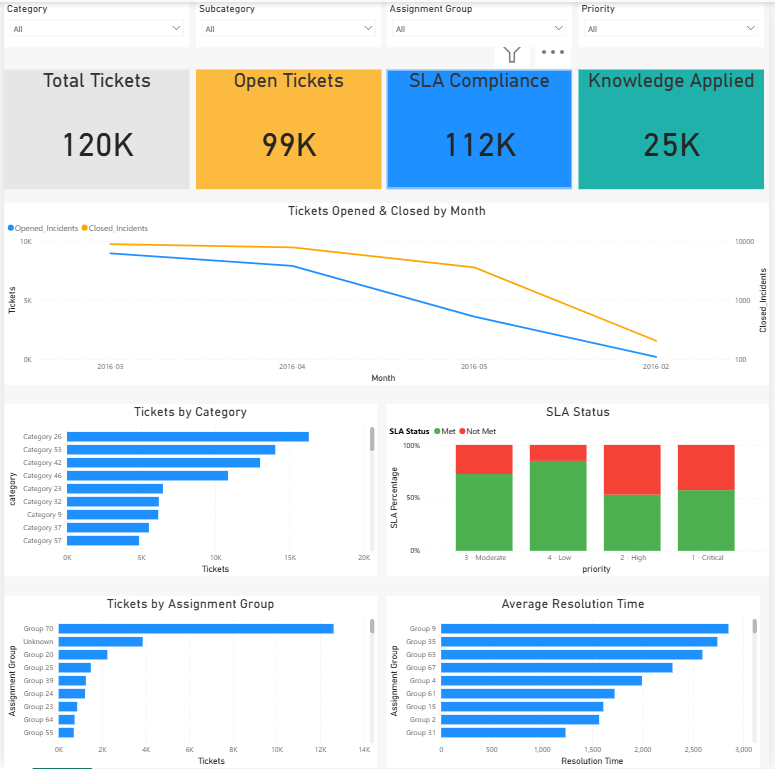

The page's visual inventory and layout, read from the dashboard file:
{"tool":"powerbi","page":{"name":"Page 1","canvas":[1280,1280],"ordinal":0},"visuals":[{"type":"card","title":"Total Tickets","fields":{"Values":["incidents_final.'Total Incidents'"]},"box":[0,112,310,200],"z":0},{"type":"card","title":"Open Tickets","fields":{"Values":["incidents_final.Active_Incidents"]},"box":[320,112,310,200],"z":1000},{"type":"card","title":"SLA Compliance","fields":{"Values":["incidents_final.SLA_Met"]},"box":[640,112,310,200],"z":2000},{"type":"card","title":"Knowledge Applied","fields":{"Values":["incidents_final.Knowledge_Used"]},"box":[960,112,310,200],"z":3000},{"type":"lineChart","title":"Tickets Opened & Closed by Month","fields":{"Category":["incidents_final.OpenedMonth"],"Y":["incidents_final.Opened_Incidents"],"Y2":["incidents_final.Closed_Incidents"]},"box":[0,336,1280,304],"z":4000},{"type":"clusteredBarChart","title":"Tickets by Category ","fields":{"Category":["incidents_final.category"],"Y":["CountNonNull(incidents_final.number)"]},"box":[0,672,624,288],"z":5000},{"type":"hundredPercentStackedColumnChart","title":"SLA Status","fields":{"Category":["incidents_final.priority"],"Y":["incidents_final.Tickets_by_Priority"],"Series":["incidents_final.SLA_Status"]},"box":[640,672,640,288],"z":6000},{"type":"clusteredBarChart","title":"Tickets by Assignment Group","fields":{"Category":["incidents_final.assignment_group"],"Y":["Count(incidents_final.number)"]},"box":[0,992,624,288],"z":7000},{"type":"clusteredBarChart","title":"Average Resolution Time","fields":{"Category":["incidents_final.assignment_group"],"Y":["incidents_final.AverageResolutionTime"]},"box":[640,992,624,288],"z":8000},{"type":"slicer","title":"Category","fields":{"Values":["incidents_final.category"]},"box":[0,0,310,75],"z":9000},{"type":"slicer","title":"Subcategory","fields":{"Values":["incidents_final.subcategory"]},"box":[320,0,310,75],"z":10000},{"type":"slicer","title":"Assignment Group","fields":{"Values":["incidents_final.assignment_group"]},"box":[640,0,310,75],"z":11000},{"type":"slicer","title":"Priority","fields":{"Values":["incidents_final.priority"]},"box":[960,0,310,75],"z":12000}]}

Visuals, with their boxes in screenshot pixels (x1, y1, x2, y2), scaled from the page's 1280x1280 canvas onto the 775x769 screenshot:
"Total Tickets" card: select_region(0, 67, 188, 187)
"Open Tickets" card: select_region(194, 67, 381, 187)
"SLA Compliance" card: select_region(388, 67, 575, 187)
"Knowledge Applied" card: select_region(581, 67, 769, 187)
"Tickets Opened & Closed by Month" lineChart: select_region(0, 202, 774, 384)
"Tickets by Category " clusteredBarChart: select_region(0, 404, 378, 577)
"SLA Status" hundredPercentStackedColumnChart: select_region(388, 404, 774, 577)
"Tickets by Assignment Group" clusteredBarChart: select_region(0, 596, 378, 768)
"Average Resolution Time" clusteredBarChart: select_region(388, 596, 765, 768)
"Category" slicer: select_region(0, 0, 188, 45)
"Subcategory" slicer: select_region(194, 0, 381, 45)
"Assignment Group" slicer: select_region(388, 0, 575, 45)
"Priority" slicer: select_region(581, 0, 769, 45)
